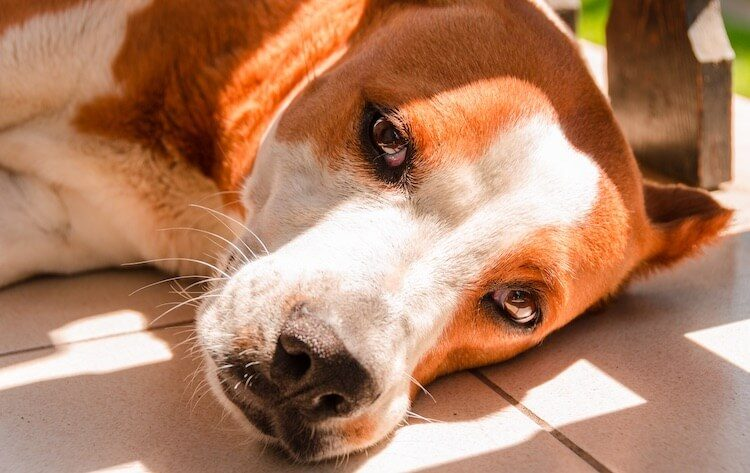dog: (3, 2, 739, 457)
